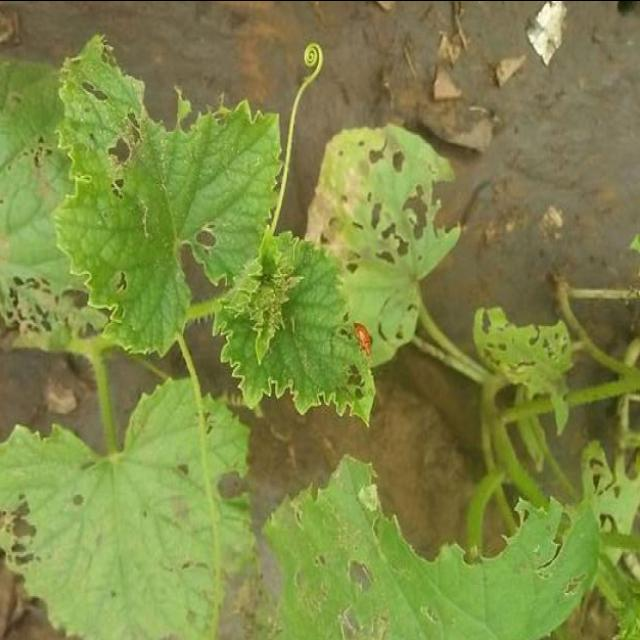Pumpkin Beetle: (322, 133, 432, 273), (452, 294, 586, 381), (78, 90, 154, 210), (323, 520, 395, 638), (528, 485, 590, 619), (0, 237, 68, 351), (0, 478, 54, 576), (21, 79, 60, 205), (335, 301, 384, 367), (67, 450, 95, 536), (194, 210, 227, 254)
